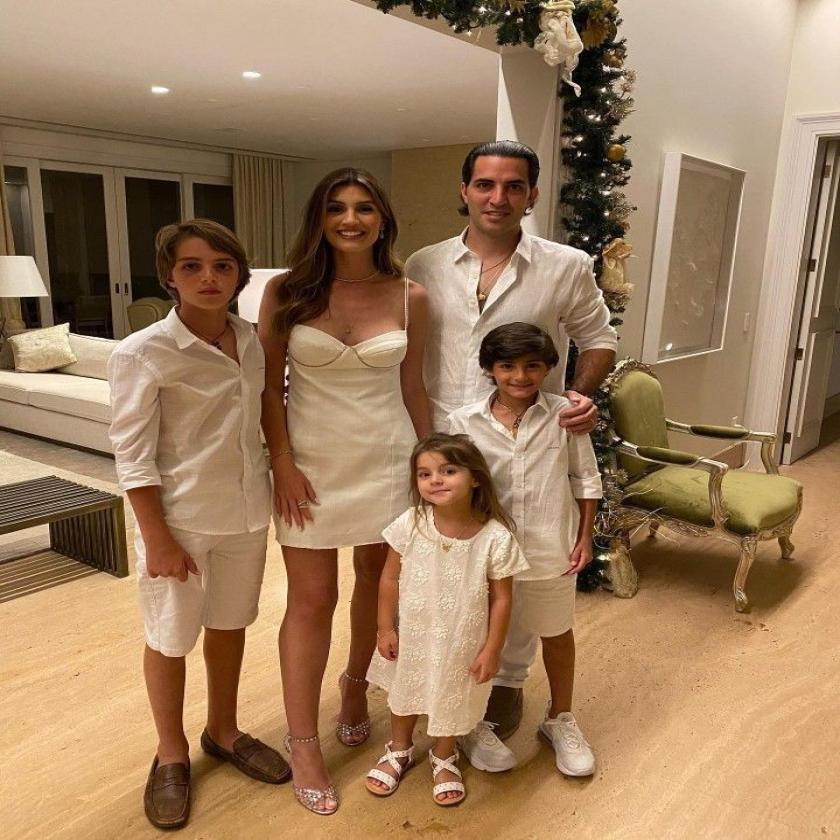Sin_casco: (150, 221, 251, 336), (305, 162, 396, 267), (454, 140, 544, 242), (475, 322, 560, 413), (408, 434, 488, 527)
